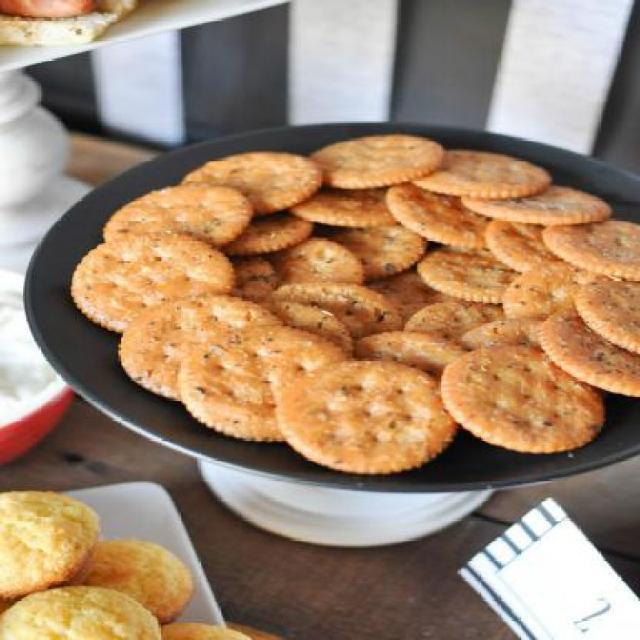Ritz cracker packaged: (68, 131, 640, 477)
